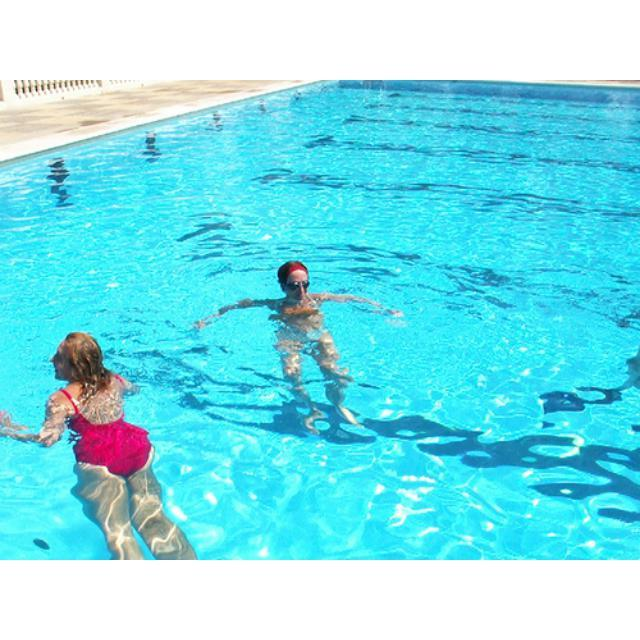human: (4, 335, 190, 559), (202, 259, 401, 365)
